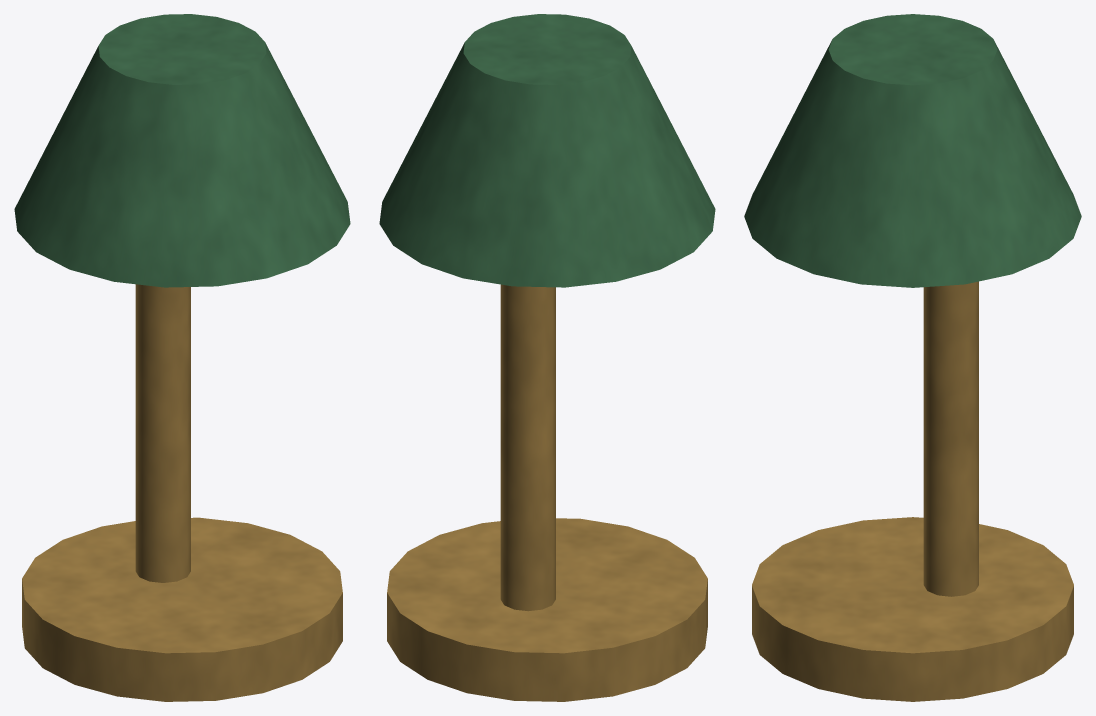
File: Furn_GreenLamp.fbx
The picture shows the model from 3 angles, left to right: view 1: azimuth 30°, elevation 25°; view 2: azimuth 150°, elevation 25°; view 3: azimuth 270°, elevation 25°; orthographic projection.
Parts seen in each view (by area): view 1: Furn_GreenLamp_Mesh; view 2: Furn_GreenLamp_Mesh; view 3: Furn_GreenLamp_Mesh.
Part boxes in pixels (box(x1,y1,x2,y2)): Furn_GreenLamp_Mesh: box(14, 14, 350, 701); Furn_GreenLamp_Mesh: box(379, 14, 715, 701); Furn_GreenLamp_Mesh: box(744, 14, 1081, 701).
Bounding box in the file's own units: 0.22 × 0.42 × 0.22.
Materials: 3 (3 with a texture image).
